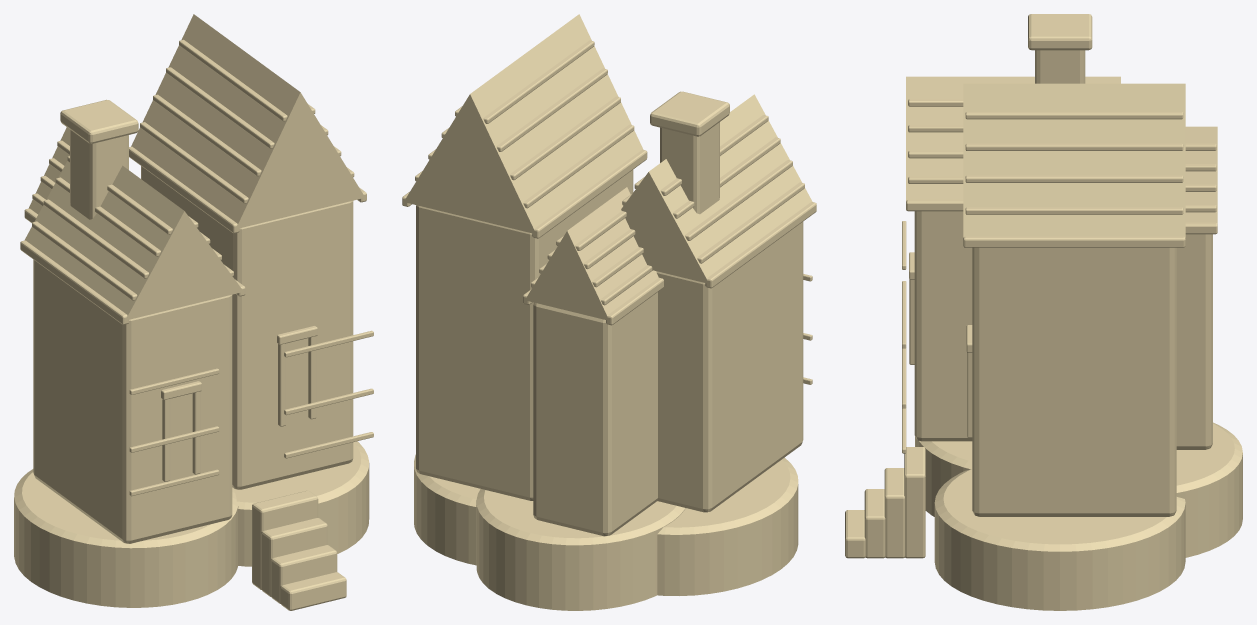
The model's file is village-beige.fbx.
3 views of the same model, side by side, from view 1: azimuth 30°, elevation 25°; view 2: azimuth 150°, elevation 25°; view 3: azimuth 270°, elevation 25° (orthographic). The views are drawn at different scales.
Visible parts, largest first — view 1: Village_Moulded_Sculpt; view 2: Village_Moulded_Sculpt; view 3: Village_Moulded_Sculpt.
Boxes of the visible parts, x1,y1,x2,y2 form: Village_Moulded_Sculpt: (14,14,373,610); Village_Moulded_Sculpt: (402,14,816,610); Village_Moulded_Sculpt: (845,14,1242,610).
Size of the model in its own units: 0.012 by 0.016 by 0.012.
